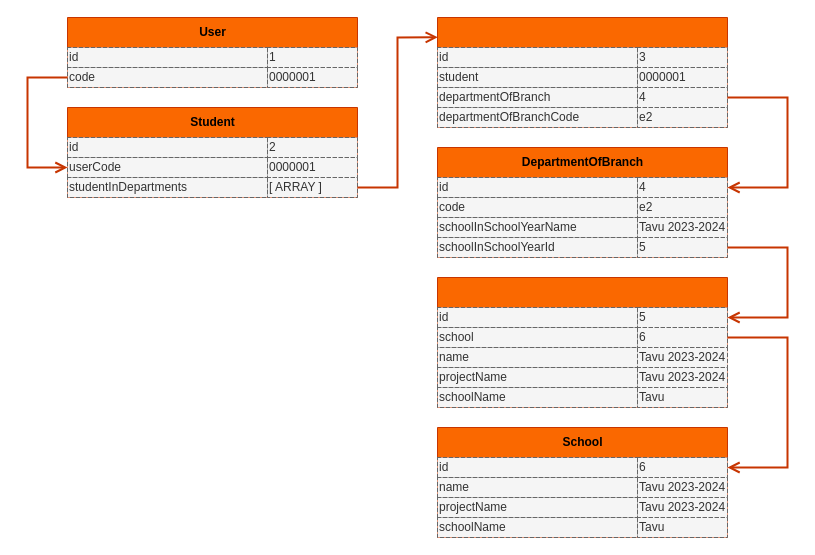
The diagram is 815 pixels wide and 555 high, and some of its shapes have lost their labels. Each missing label, with the box of its shape:
SchoolInYear: (436, 276, 728, 408)
StudentInDepartment: (436, 16, 728, 128)
